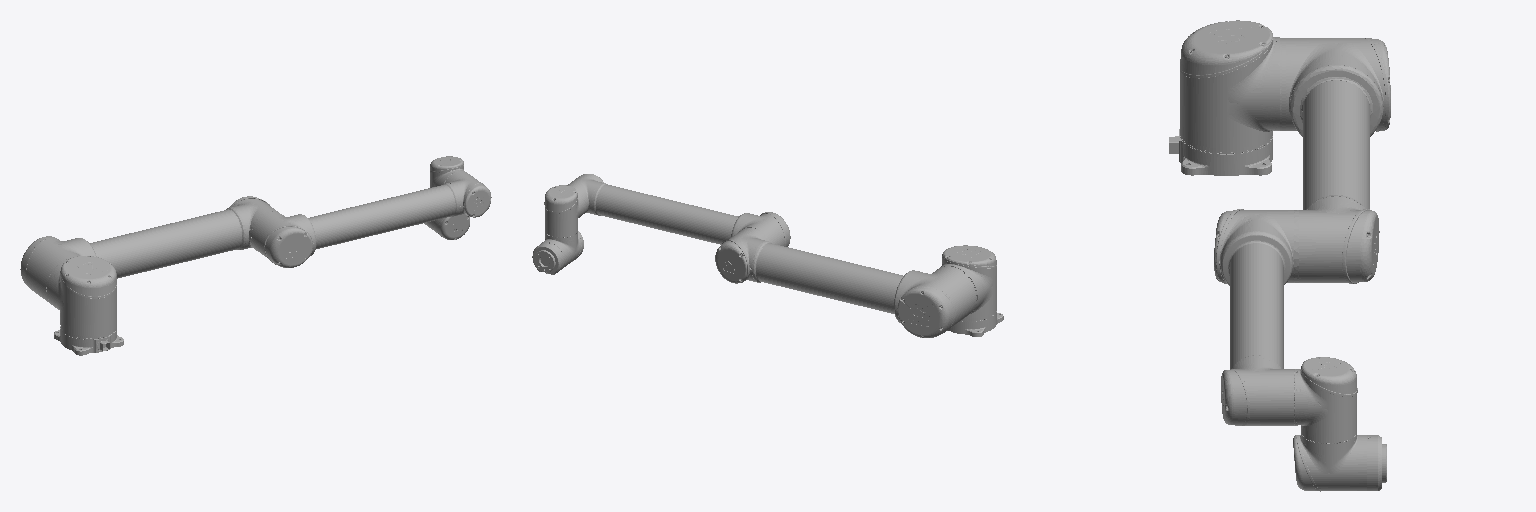
The robot description file, URDF, robot "ur10":
<?xml version="1.0" ?>
<!-- =================================================================================== -->
<!-- |    This document was autogenerated by xacro from urdf/ur10_joint_limited_robot.urdf.xacro | -->
<!-- |    EDITING THIS FILE BY HAND IS NOT RECOMMENDED                                 | -->
<!-- =================================================================================== -->
<robot name="ur10">
  <gazebo>
    <plugin filename="libgazebo_ros_control.so" name="ros_control">
      <!--robotNamespace>/</robotNamespace-->
      <!--robotSimType>gazebo_ros_control/DefaultRobotHWSim</robotSimType-->
    </plugin>
    <!--
    <plugin name="gazebo_ros_power_monitor_controller" filename="libgazebo_ros_power_monitor.so">
      <alwaysOn>true</alwaysOn>
      <updateRate>1.0</updateRate>
      <timeout>5</timeout>
      <powerStateTopic>power_state</powerStateTopic>
      <powerStateRate>10.0</powerStateRate>
      <fullChargeCapacity>87.78</fullChargeCapacity>     
      <dischargeRate>-474</dischargeRate>
      <chargeRate>525</chargeRate>
      <dischargeVoltage>15.52</dischargeVoltage>
      <chargeVoltage>16.41</chargeVoltage>
    </plugin>
-->
  </gazebo>
  <!--
  Author: [author]
  Contributers: [author], [author], [author]
-->
  <!-- measured from model -->
  <link name="base_link">
    <visual>
      <geometry>
        <mesh filename="package://ur_description/meshes/ur10/visual/base.dae"/>
      </geometry>
      <material name="LightGrey">
        <color rgba="0.7 0.7 0.7 1.0"/>
      </material>
    </visual>
    <collision>
      <geometry>
        <mesh filename="package://ur_description/meshes/ur10/collision/base.stl"/>
      </geometry>
    </collision>
    <inertial>
      <mass value="4.0"/>
      <origin rpy="0 0 0" xyz="0.0 0.0 0.0"/>
      <inertia ixx="0.0061063308908" ixy="0.0" ixz="0.0" iyy="0.0061063308908" iyz="0.0" izz="0.01125"/>
    </inertial>
  </link>
  <joint name="shoulder_pan_joint" type="revolute">
    <parent link="base_link"/>
    <child link="shoulder_link"/>
    <origin rpy="0.0 0.0 0.0" xyz="0.0 0.0 0.1273"/>
    <axis xyz="0 0 1"/>
    <limit effort="330.0" lower="-3.141592653589793" upper="3.141592653589793" velocity="2.16"/>
    <dynamics damping="0.0" friction="0.0"/>
  </joint>
  <link name="shoulder_link">
    <visual>
      <geometry>
        <mesh filename="package://ur_description/meshes/ur10/visual/shoulder.dae"/>
      </geometry>
      <material name="LightGrey">
        <color rgba="0.7 0.7 0.7 1.0"/>
      </material>
    </visual>
    <collision>
      <geometry>
        <mesh filename="package://ur_description/meshes/ur10/collision/shoulder.stl"/>
      </geometry>
    </collision>
    <inertial>
      <mass value="7.778"/>
      <origin rpy="0 0 0" xyz="0.0 0.0 0.0"/>
      <inertia ixx="0.03147431257693659" ixy="0.0" ixz="0.0" iyy="0.03147431257693659" iyz="0.0" izz="0.021875624999999996"/>
    </inertial>
  </link>
  <joint name="shoulder_lift_joint" type="revolute">
    <parent link="shoulder_link"/>
    <child link="upper_arm_link"/>
    <origin rpy="0.0 1.5707963267948966 0.0" xyz="0.0 0.220941 0.0"/>
    <axis xyz="0 1 0"/>
    <limit effort="330.0" lower="-3.141592653589793" upper="3.141592653589793" velocity="2.16"/>
    <dynamics damping="0.0" friction="0.0"/>
  </joint>
  <link name="upper_arm_link">
    <visual>
      <geometry>
        <mesh filename="package://ur_description/meshes/ur10/visual/upperarm.dae"/>
      </geometry>
      <material name="LightGrey">
        <color rgba="0.7 0.7 0.7 1.0"/>
      </material>
    </visual>
    <collision>
      <geometry>
        <mesh filename="package://ur_description/meshes/ur10/collision/upperarm.stl"/>
      </geometry>
    </collision>
    <inertial>
      <mass value="12.93"/>
      <origin rpy="0 0 0" xyz="0.0 -0.045 0.306"/>
      <inertia ixx="0.42175380379841093" ixy="0.0" ixz="0.0" iyy="0.42175380379841093" iyz="0.0" izz="0.03636562499999999"/>
    </inertial>
  </link>
  <joint name="elbow_joint" type="revolute">
    <parent link="upper_arm_link"/>
    <child link="forearm_link"/>
    <origin rpy="0.0 0.0 0.0" xyz="0.0 -0.1719 0.612"/>
    <axis xyz="0 1 0"/>
    <limit effort="150.0" lower="-3.141592653589793" upper="3.141592653589793" velocity="3.15"/>
    <dynamics damping="0.0" friction="0.0"/>
  </joint>
  <link name="forearm_link">
    <visual>
      <geometry>
        <mesh filename="package://ur_description/meshes/ur10/visual/forearm.dae"/>
      </geometry>
      <material name="LightGrey">
        <color rgba="0.7 0.7 0.7 1.0"/>
      </material>
    </visual>
    <collision>
      <geometry>
        <mesh filename="package://ur_description/meshes/ur10/collision/forearm.stl"/>
      </geometry>
    </collision>
    <inertial>
      <mass value="3.87"/>
      <origin rpy="0 0 0" xyz="0.0 0.0 0.28615"/>
      <inertia ixx="0.11106969409710458" ixy="0.0" ixz="0.0" iyy="0.11106969409710458" iyz="0.0" izz="0.010884375"/>
    </inertial>
  </link>
  <joint name="wrist_1_joint" type="revolute">
    <parent link="forearm_link"/>
    <child link="wrist_1_link"/>
    <origin rpy="0.0 1.5707963267948966 0.0" xyz="0.0 0.0 0.5723"/>
    <axis xyz="0 1 0"/>
    <limit effort="54.0" lower="-3.141592653589793" upper="3.141592653589793" velocity="3.2"/>
    <dynamics damping="0.0" friction="0.0"/>
  </joint>
  <link name="wrist_1_link">
    <visual>
      <geometry>
        <mesh filename="package://ur_description/meshes/ur10/visual/wrist1.dae"/>
      </geometry>
      <material name="LightGrey">
        <color rgba="0.7 0.7 0.7 1.0"/>
      </material>
    </visual>
    <collision>
      <geometry>
        <mesh filename="package://ur_description/meshes/ur10/collision/wrist1.stl"/>
      </geometry>
    </collision>
    <inertial>
      <mass value="1.96"/>
      <origin rpy="0 0 0" xyz="0.0 0.1149 0.0"/>
      <inertia ixx="0.005108247956699999" ixy="0.0" ixz="0.0" iyy="0.005108247956699999" iyz="0.0" izz="0.005512499999999999"/>
    </inertial>
  </link>
  <joint name="wrist_2_joint" type="revolute">
    <parent link="wrist_1_link"/>
    <child link="wrist_2_link"/>
    <origin rpy="0.0 0.0 0.0" xyz="0.0 0.1149 0.0"/>
    <axis xyz="0 0 1"/>
    <limit effort="54.0" lower="-3.141592653589793" upper="3.141592653589793" velocity="3.2"/>
    <dynamics damping="0.0" friction="0.0"/>
  </joint>
  <link name="wrist_2_link">
    <visual>
      <geometry>
        <mesh filename="package://ur_description/meshes/ur10/visual/wrist2.dae"/>
      </geometry>
      <material name="LightGrey">
        <color rgba="0.7 0.7 0.7 1.0"/>
      </material>
    </visual>
    <collision>
      <geometry>
        <mesh filename="package://ur_description/meshes/ur10/collision/wrist2.stl"/>
      </geometry>
    </collision>
    <inertial>
      <mass value="1.96"/>
      <origin rpy="0 0 0" xyz="0.0 0.0 0.1157"/>
      <inertia ixx="0.005108247956699999" ixy="0.0" ixz="0.0" iyy="0.005108247956699999" iyz="0.0" izz="0.005512499999999999"/>
    </inertial>
  </link>
  <joint name="wrist_3_joint" type="revolute">
    <parent link="wrist_2_link"/>
    <child link="wrist_3_link"/>
    <origin rpy="0.0 0.0 0.0" xyz="0.0 0.0 0.1157"/>
    <axis xyz="0 1 0"/>
    <limit effort="54.0" lower="-3.141592653589793" upper="3.141592653589793" velocity="3.2"/>
    <dynamics damping="0.0" friction="0.0"/>
  </joint>
  <link name="wrist_3_link">
    <visual>
      <geometry>
        <mesh filename="package://ur_description/meshes/ur10/visual/wrist3.dae"/>
      </geometry>
      <material name="LightGrey">
        <color rgba="0.7 0.7 0.7 1.0"/>
      </material>
    </visual>
    <collision>
      <geometry>
        <mesh filename="package://ur_description/meshes/ur10/collision/wrist3.stl"/>
      </geometry>
    </collision>
    <inertial>
      <mass value="0.202"/>
      <origin rpy="1.5707963267948966 0 0" xyz="0.0 0.07695 0.0"/>
      <inertia ixx="0.00011792166116465" ixy="0.0" ixz="0.0" iyy="0.00011792166116465" iyz="0.0" izz="0.00020452500000000002"/>
    </inertial>
  </link>
  <joint name="ee_fixed_joint" type="fixed">
    <parent link="wrist_3_link"/>
    <child link="ee_link"/>
    <origin rpy="0.0 0.0 1.5707963267948966" xyz="0.0 0.0922 0.0"/>
  </joint>
  <link name="ee_link">
    <collision>
      <geometry>
        <box size="0.01 0.01 0.01"/>
      </geometry>
      <origin rpy="0 0 0" xyz="-0.01 0 0"/>
    </collision>
  </link>
  <transmission name="shoulder_pan_trans">
    <type>transmission_interface/SimpleTransmission</type>
    <joint name="shoulder_pan_joint">
      <hardwareInterface>hardware_interface/PositionJointInterface</hardwareInterface>
    </joint>
    <actuator name="shoulder_pan_motor">
      <mechanicalReduction>1</mechanicalReduction>
    </actuator>
  </transmission>
  <transmission name="shoulder_lift_trans">
    <type>transmission_interface/SimpleTransmission</type>
    <joint name="shoulder_lift_joint">
      <hardwareInterface>hardware_interface/PositionJointInterface</hardwareInterface>
    </joint>
    <actuator name="shoulder_lift_motor">
      <mechanicalReduction>1</mechanicalReduction>
    </actuator>
  </transmission>
  <transmission name="elbow_trans">
    <type>transmission_interface/SimpleTransmission</type>
    <joint name="elbow_joint">
      <hardwareInterface>hardware_interface/PositionJointInterface</hardwareInterface>
    </joint>
    <actuator name="elbow_motor">
      <mechanicalReduction>1</mechanicalReduction>
    </actuator>
  </transmission>
  <transmission name="wrist_1_trans">
    <type>transmission_interface/SimpleTransmission</type>
    <joint name="wrist_1_joint">
      <hardwareInterface>hardware_interface/PositionJointInterface</hardwareInterface>
    </joint>
    <actuator name="wrist_1_motor">
      <mechanicalReduction>1</mechanicalReduction>
    </actuator>
  </transmission>
  <transmission name="wrist_2_trans">
    <type>transmission_interface/SimpleTransmission</type>
    <joint name="wrist_2_joint">
      <hardwareInterface>hardware_interface/PositionJointInterface</hardwareInterface>
    </joint>
    <actuator name="wrist_2_motor">
      <mechanicalReduction>1</mechanicalReduction>
    </actuator>
  </transmission>
  <transmission name="wrist_3_trans">
    <type>transmission_interface/SimpleTransmission</type>
    <joint name="wrist_3_joint">
      <hardwareInterface>hardware_interface/PositionJointInterface</hardwareInterface>
    </joint>
    <actuator name="wrist_3_motor">
      <mechanicalReduction>1</mechanicalReduction>
    </actuator>
  </transmission>
  <gazebo reference="shoulder_link">
    <selfCollide>true</selfCollide>
  </gazebo>
  <gazebo reference="upper_arm_link">
    <selfCollide>true</selfCollide>
  </gazebo>
  <gazebo reference="forearm_link">
    <selfCollide>true</selfCollide>
  </gazebo>
  <gazebo reference="wrist_1_link">
    <selfCollide>true</selfCollide>
  </gazebo>
  <gazebo reference="wrist_3_link">
    <selfCollide>true</selfCollide>
  </gazebo>
  <gazebo reference="wrist_2_link">
    <selfCollide>true</selfCollide>
  </gazebo>
  <gazebo reference="ee_link">
    <selfCollide>true</selfCollide>
  </gazebo>
  <!-- ROS base_link to UR 'Base' Coordinates transform -->
  <link name="base"/>
  <joint name="base_link-base_fixed_joint" type="fixed">
    <!-- NOTE: this rotation is only needed as long as base_link itself is
                 not corrected wrt the real robot (ie: rotated over 180
                 degrees)
      -->
    <origin rpy="0 0 -3.141592653589793" xyz="0 0 0"/>
    <parent link="base_link"/>
    <child link="base"/>
  </joint>
  <!-- Frame coincident with all-zeros TCP on UR controller -->
  <link name="tool0"/>
  <joint name="wrist_3_link-tool0_fixed_joint" type="fixed">
    <origin rpy="-1.5707963267948966 0 0" xyz="0 0.0922 0"/>
    <parent link="wrist_3_link"/>
    <child link="tool0"/>
  </joint>
  <link name="world"/>
  <joint name="world_joint" type="fixed">
    <parent link="world"/>
    <child link="base_link"/>
    <origin rpy="0.0 0.0 0.0" xyz="0.0 0.0 0.0"/>
  </joint>
</robot>

--- Facts derived from the render (not from the file) ---
3 views of the same robot in one strip: view 1: azimuth 30°, elevation 25°; view 2: azimuth 150°, elevation 25°; view 3: azimuth 270°, elevation 25° (orthographic).
Model ur10 with 11 links and 10 joints (6 revolute, 4 fixed), rooted at world, posed every joint at zero.
Visible links, largest first — view 1: upper_arm_link, forearm_link, shoulder_link, base_link, wrist_2_link, wrist_1_link; view 2: upper_arm_link, forearm_link, shoulder_link, wrist_1_link, wrist_3_link, wrist_2_link, base_link; view 3: upper_arm_link, forearm_link, shoulder_link, wrist_1_link, wrist_2_link, base_link, wrist_3_link.
Link boxes in pixels (box(x1,y1,x2,y2)): upper_arm_link: box(20, 196, 278, 304); forearm_link: box(249, 171, 491, 267); shoulder_link: box(48, 256, 116, 339); base_link: box(54, 328, 123, 355); wrist_2_link: box(424, 214, 469, 239); wrist_1_link: box(430, 156, 463, 187); upper_arm_link: box(715, 229, 976, 337); forearm_link: box(567, 174, 790, 246); shoulder_link: box(940, 245, 996, 321); wrist_1_link: box(544, 185, 585, 237); wrist_3_link: box(532, 242, 563, 274); wrist_2_link: box(542, 231, 583, 269); base_link: box(948, 313, 1003, 336); upper_arm_link: box(1280, 38, 1390, 283); forearm_link: box(1214, 209, 1298, 425); shoulder_link: box(1180, 20, 1279, 154); wrist_1_link: box(1295, 357, 1357, 443); wrist_2_link: box(1293, 435, 1366, 491); base_link: box(1169, 129, 1272, 175); wrist_3_link: box(1367, 435, 1386, 490).
Bounding box of the posed robot: 1.31 × 0.3552 × 0.2501 m (x, y, z).
Meshes: 7 distinct files referenced, 7 mesh visuals loaded (7 Collada DAE).